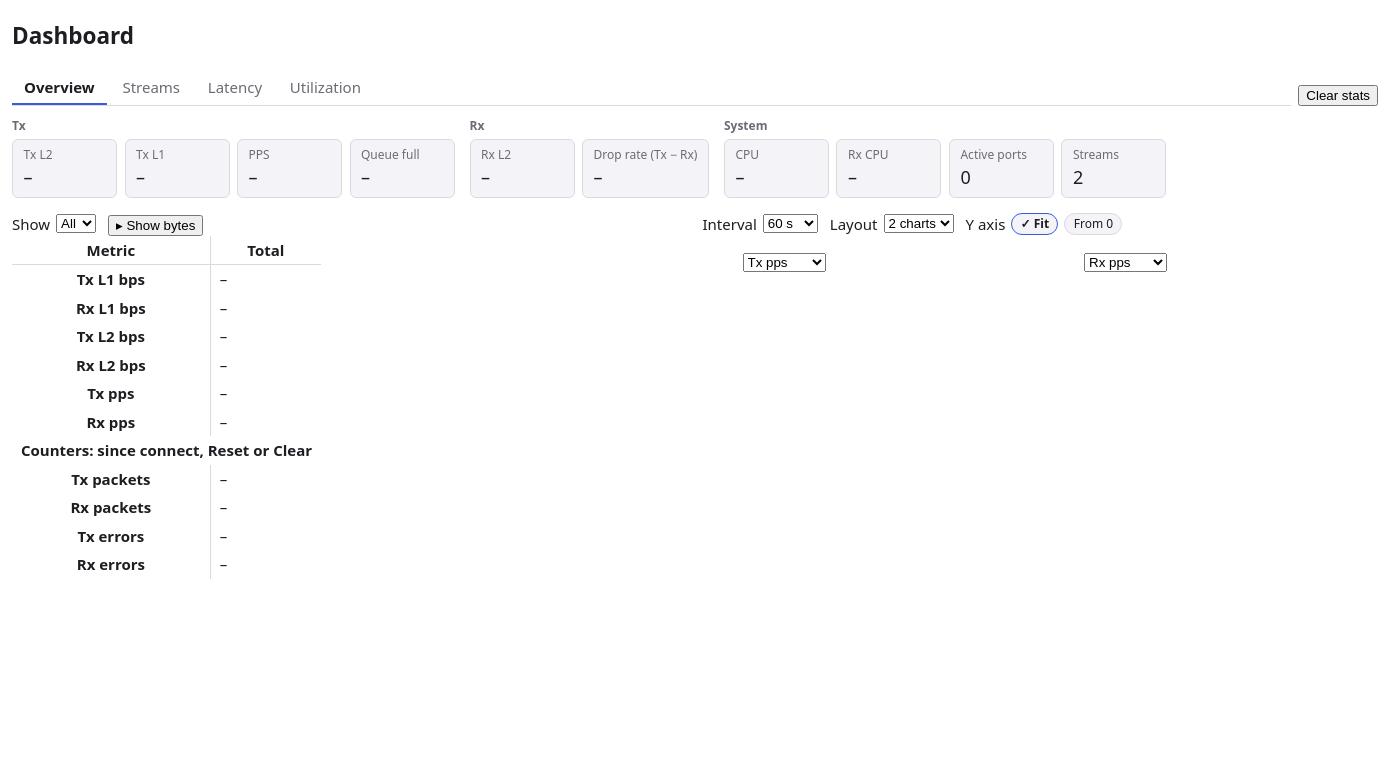
Test: DashboardPage Clear stats › Clear stats zeroes the rendered Streams table counters
The image size is (1390, 768).
What coordinates should you click on to do the following:
click the tab "Streams"
I would click on:
 (151, 88)
Its box is [110, 71, 192, 105].
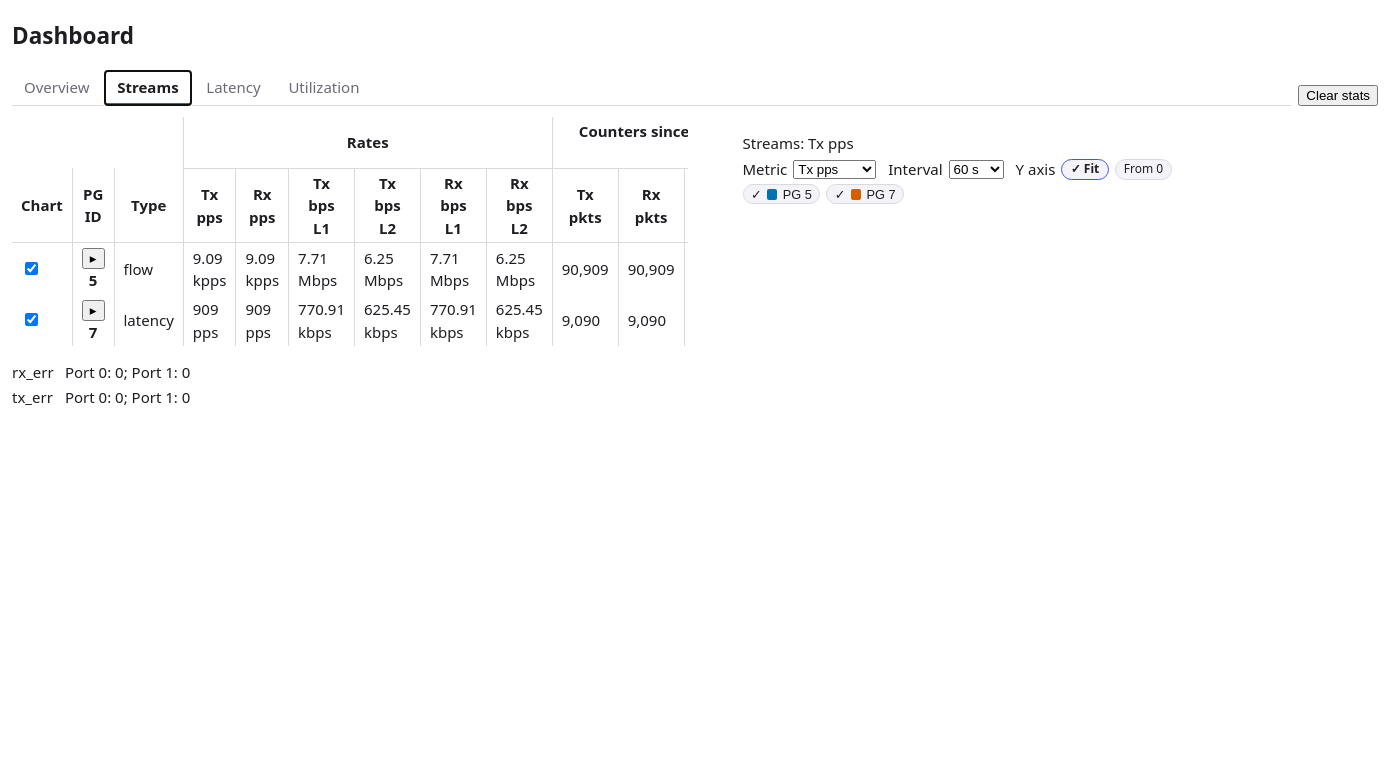
Check: the text "90,909" is shown 2 times, box [552, 243, 618, 295]; [618, 243, 684, 295]
What coordinates should you click on to do the following:
click the button "Clear stats"
I would click on:
 (1338, 95)
Its box is [1298, 85, 1378, 106].
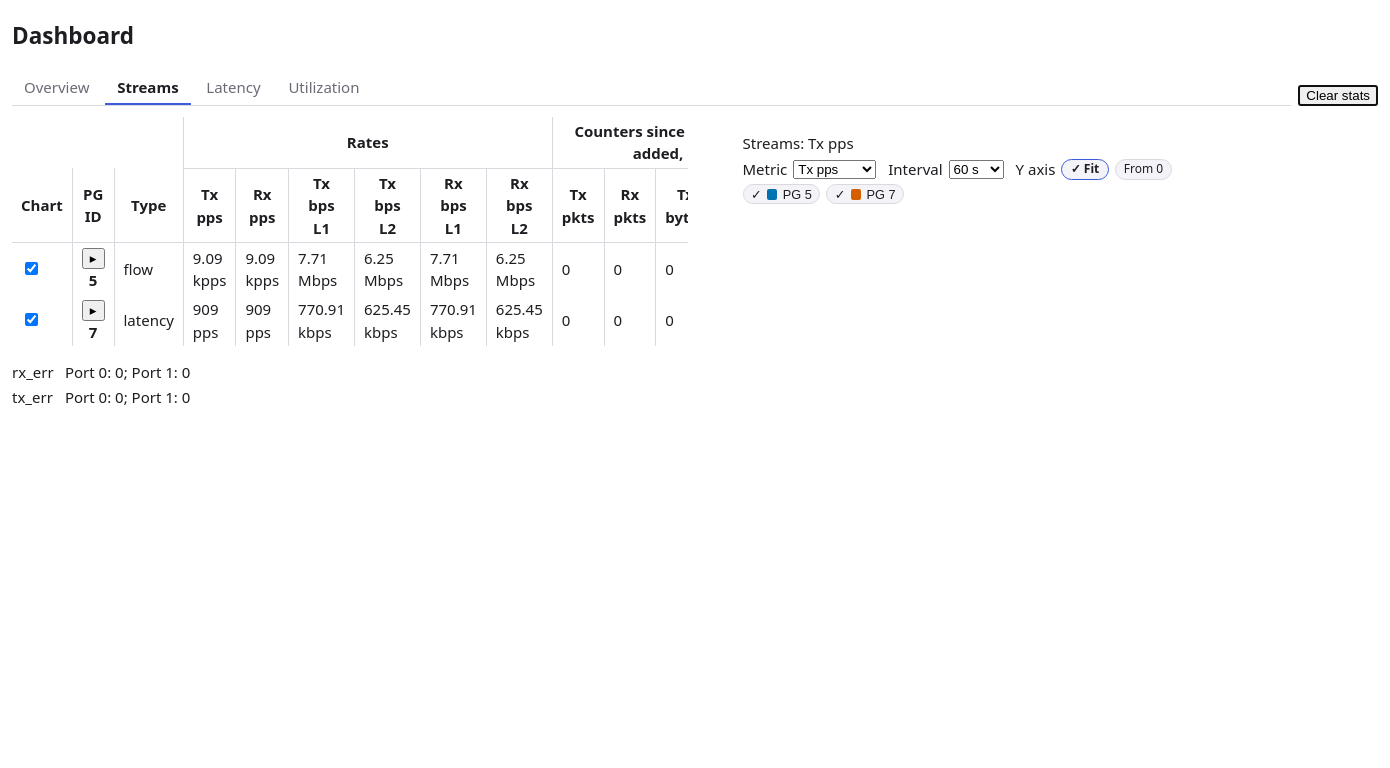
Check: the text "90,909" is gone
